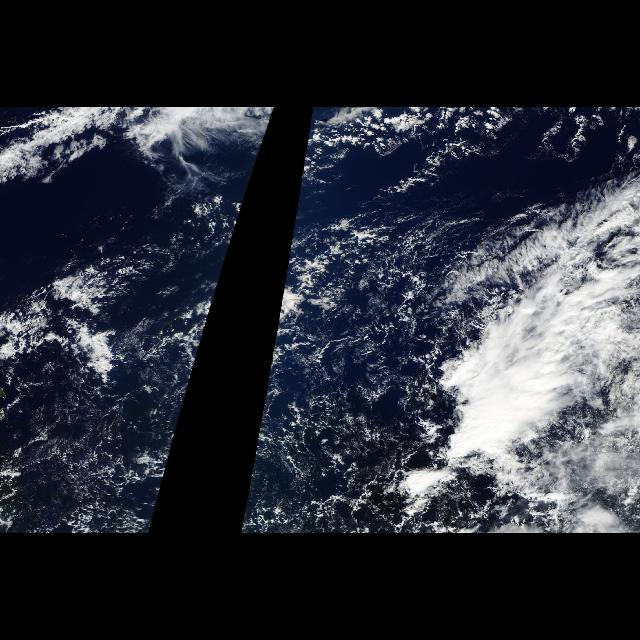Gravel: (245, 234, 457, 511), (74, 234, 236, 511)
